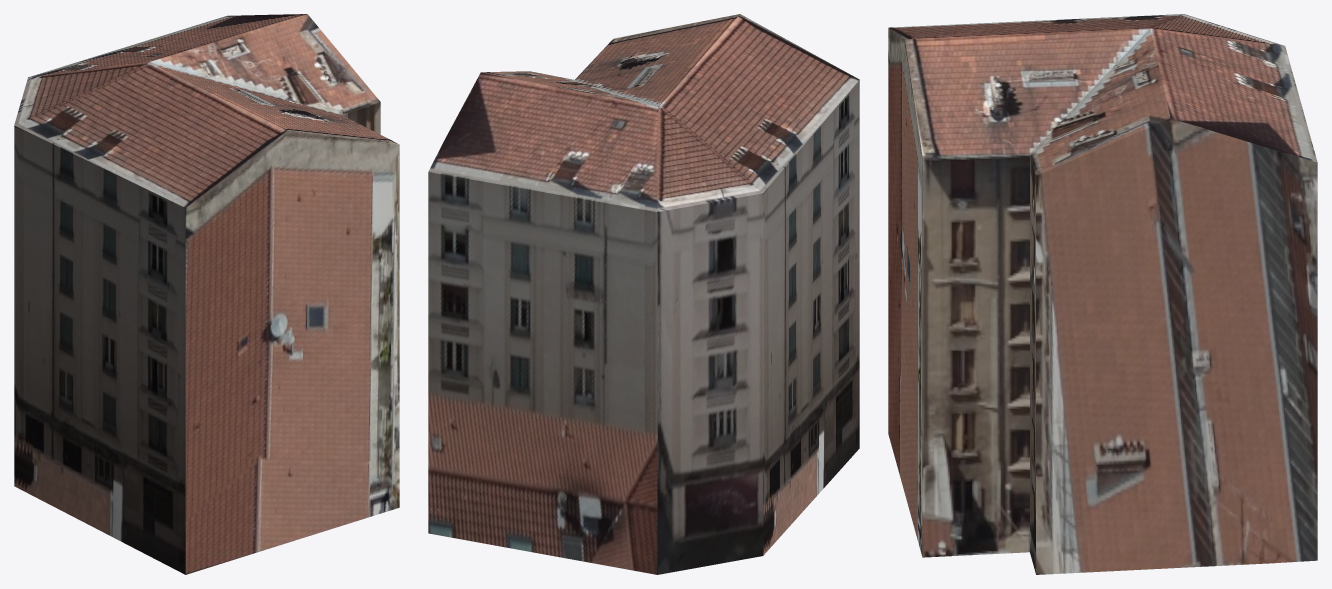
3 renders of one model, left to right at view 1: azimuth 30°, elevation 25°; view 2: azimuth 150°, elevation 25°; view 3: azimuth 270°, elevation 25°, orthographic. The views are drawn at different scales.
Parts seen in each view (by area): view 1: Z_UP; view 2: Z_UP; view 3: Z_UP.
Part boxes in pixels (x1,y1,x2,y2): Z_UP: (14,14,399,574); Z_UP: (428,14,859,574); Z_UP: (888,14,1317,574).
Size of the model in its own units: 17.36 by 22.74 by 19.48.
2 materials, 1 textured.
